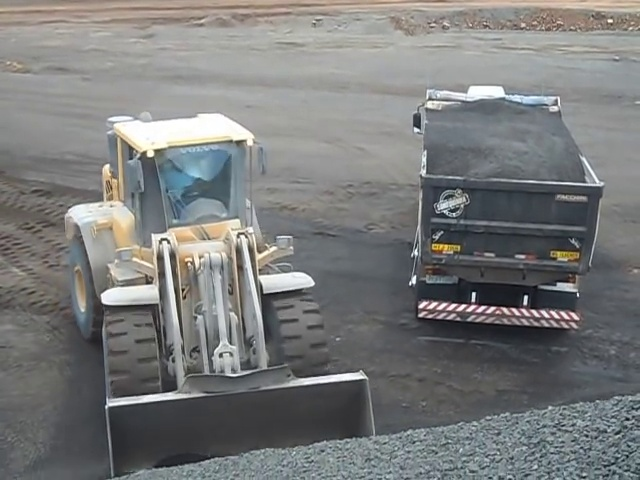truck: (414, 84, 605, 331)
wheel loader: (64, 112, 378, 477)
